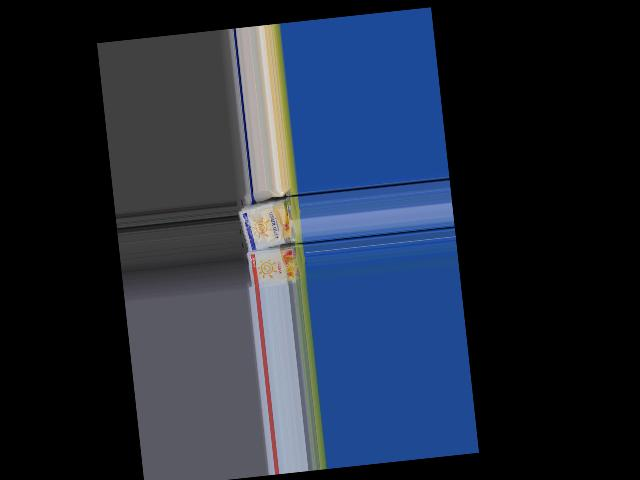cheese: (243, 245, 307, 290)
